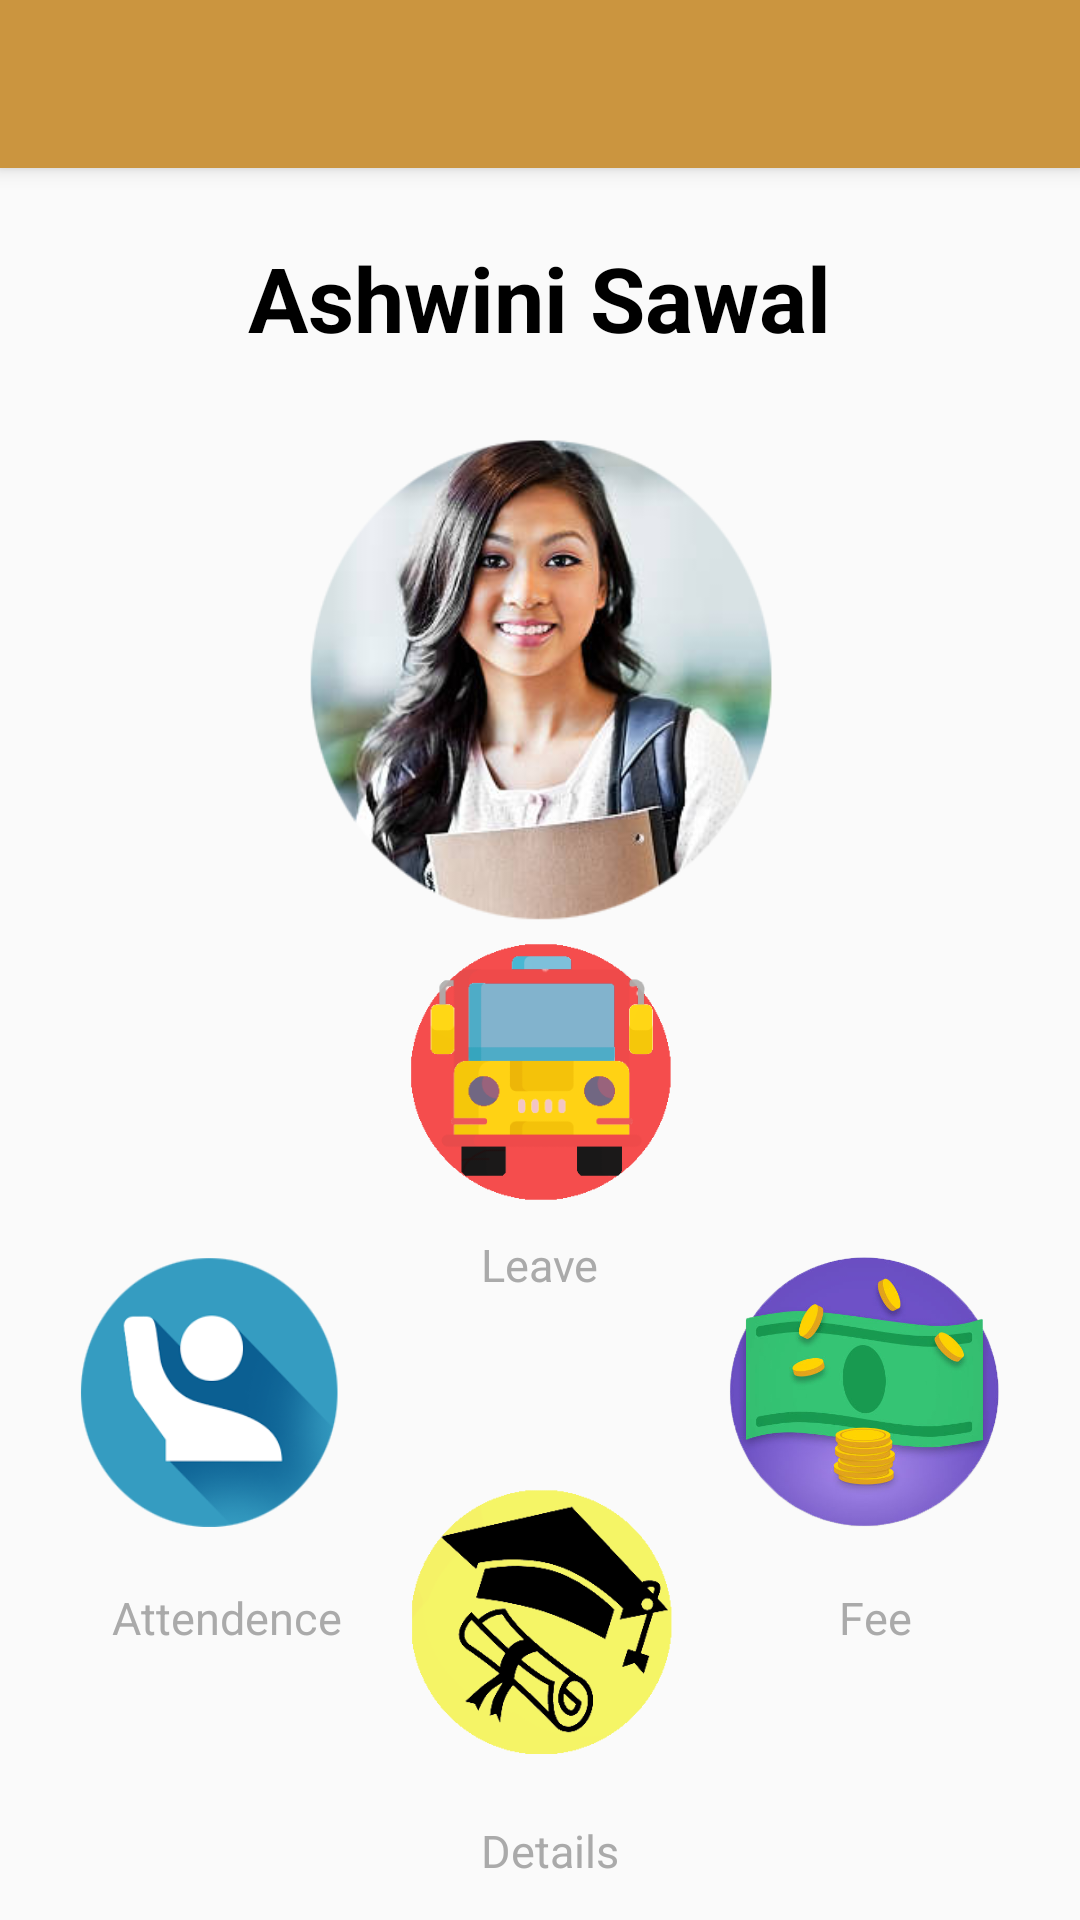

Screen size 1080px×1920px. Icon name, then its box in pixels as (x1, y1, x2, y2):
aboutstudent: (412, 1490, 672, 1754)
bus: (411, 944, 671, 1200)
